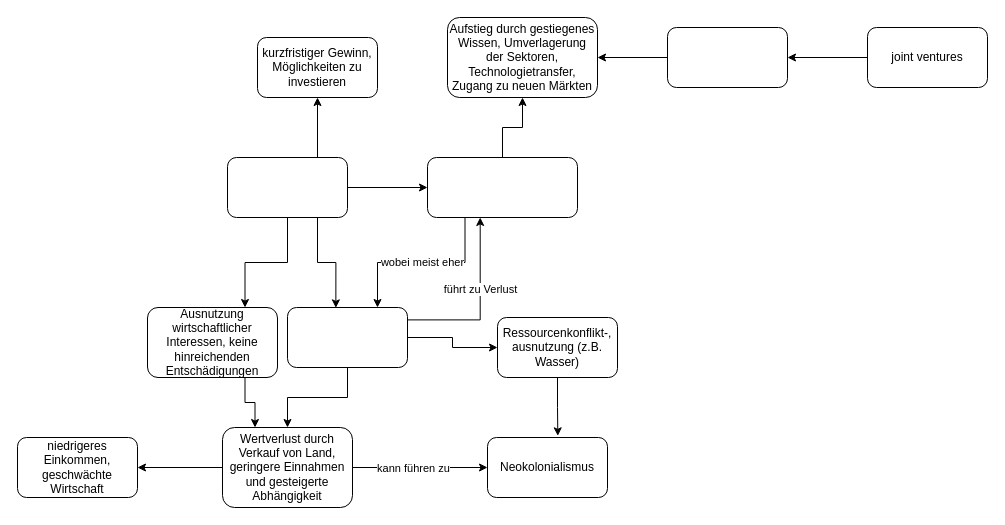
Some shapes in this 1005 by 525 pixel diagram are drawn without their labels. Each missing label, with the centre of its shape:
"Kooperation mit Unternehmen im Inland" goes at (x=727, y=57).
"land grabbing" goes at (x=287, y=187).
"profitablere Herstellung v. Agrargütern für Weltmarkt" goes at (x=347, y=337).
"Sicherung der Nahrungsmittelversorgung" goes at (x=502, y=187).
